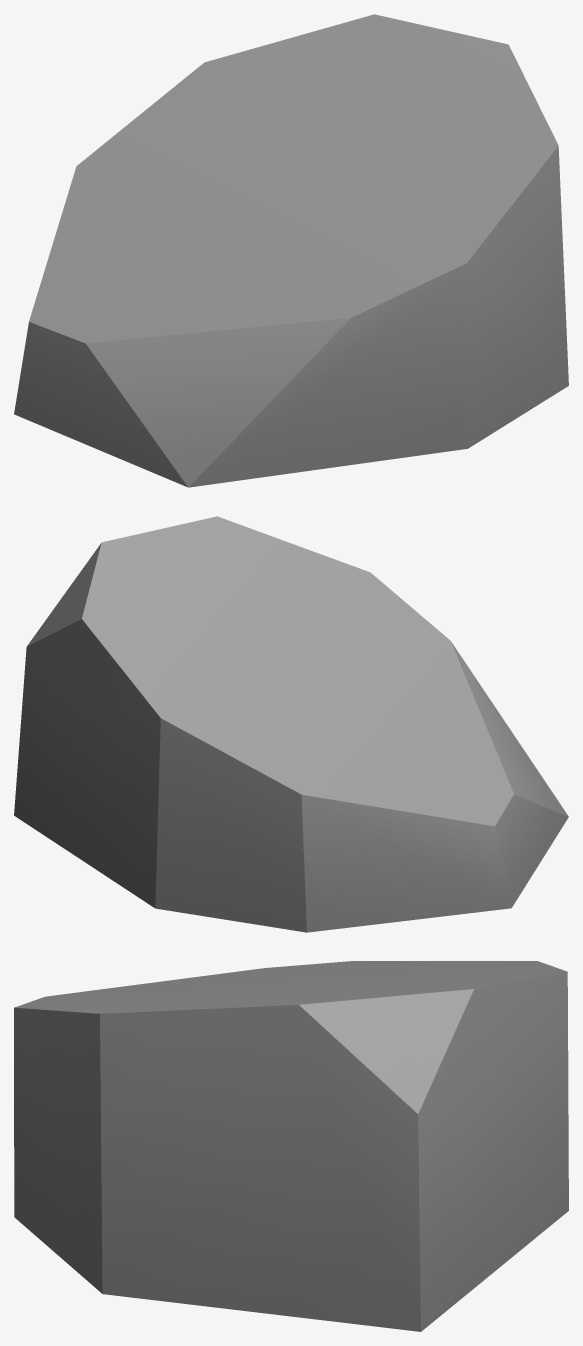
The model's file is Cavern_RockSml-04.fbx.
The picture shows the model from 3 angles, top to bottom: view 1: azimuth 30°, elevation 25°; view 2: azimuth 150°, elevation 25°; view 3: azimuth 270°, elevation 25°; orthographic projection. The views are drawn at different scales.
Visible parts, largest first — view 1: Cavern_RockSml-04; view 2: Cavern_RockSml-04; view 3: Cavern_RockSml-04.
Boxes of the visible parts, x1=… form: Cavern_RockSml-04: x1=14, y1=14, x2=568, y2=487; Cavern_RockSml-04: x1=14, y1=516, x2=568, y2=932; Cavern_RockSml-04: x1=14, y1=961, x2=568, y2=1331.
Size of the model in its own units: 35.17 by 17.68 by 29.24.
1 material, 1 textured.
